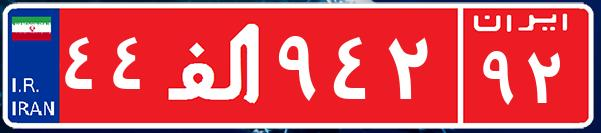2: (385, 28, 445, 110), (525, 38, 570, 115)
4: (330, 28, 385, 110), (57, 26, 110, 107), (110, 28, 158, 105)
9: (273, 28, 330, 110), (475, 38, 525, 113)
الف: (158, 15, 273, 115)
